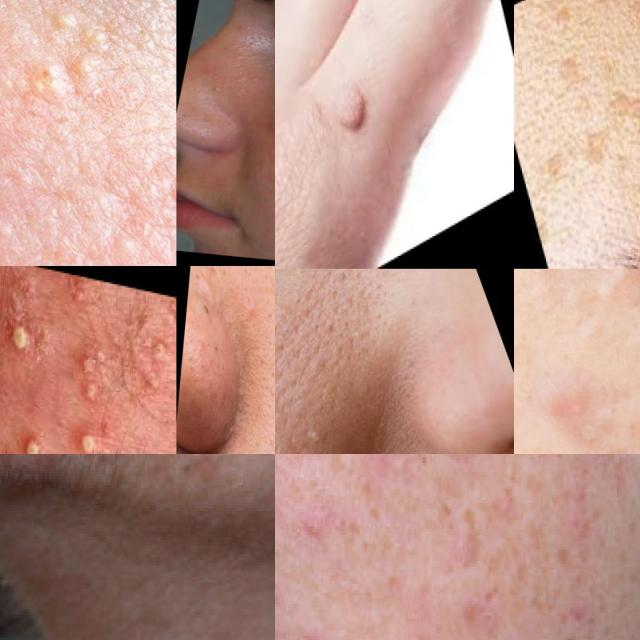comedone: (577, 269, 629, 323), (193, 296, 221, 336), (231, 73, 260, 101), (200, 80, 227, 96)
flat_wart: (314, 41, 382, 191), (598, 72, 640, 130), (572, 120, 618, 172), (552, 48, 588, 96)
folliculitis: (60, 331, 114, 411), (0, 303, 47, 370), (137, 324, 172, 402), (66, 410, 112, 454), (18, 423, 48, 454)
milium: (6, 0, 139, 123), (275, 414, 353, 454)
papule: (269, 235, 275, 259)
